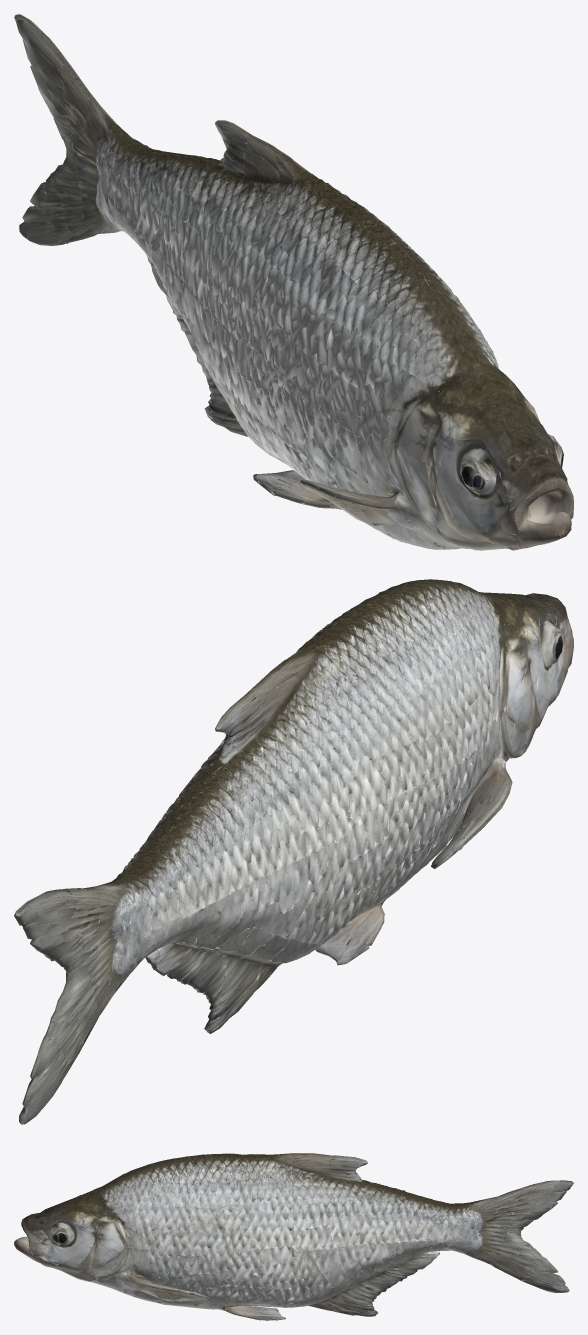
Rendered from rozpior.glb.
3 views of the same model, one above another, from view 1: azimuth 30°, elevation 25°; view 2: azimuth 150°, elevation 25°; view 3: azimuth 270°, elevation 25° (orthographic). The views are drawn at different scales.
Parts seen in each view (by area): view 1: Mesh_0; view 2: Mesh_0; view 3: Mesh_0.
Part boxes in pixels (bbox=[...]): Mesh_0: bbox=[14, 14, 573, 550]; Mesh_0: bbox=[14, 579, 573, 1124]; Mesh_0: bbox=[14, 1153, 573, 1320].
Bounding box in the file's own units: 0.3399 × 0.6132 × 1.9.
Materials: 1 (1 with a texture image).
